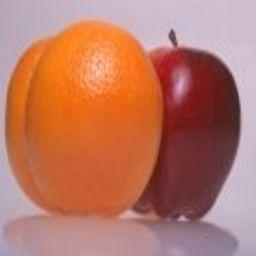apple: (124, 39, 240, 222)
